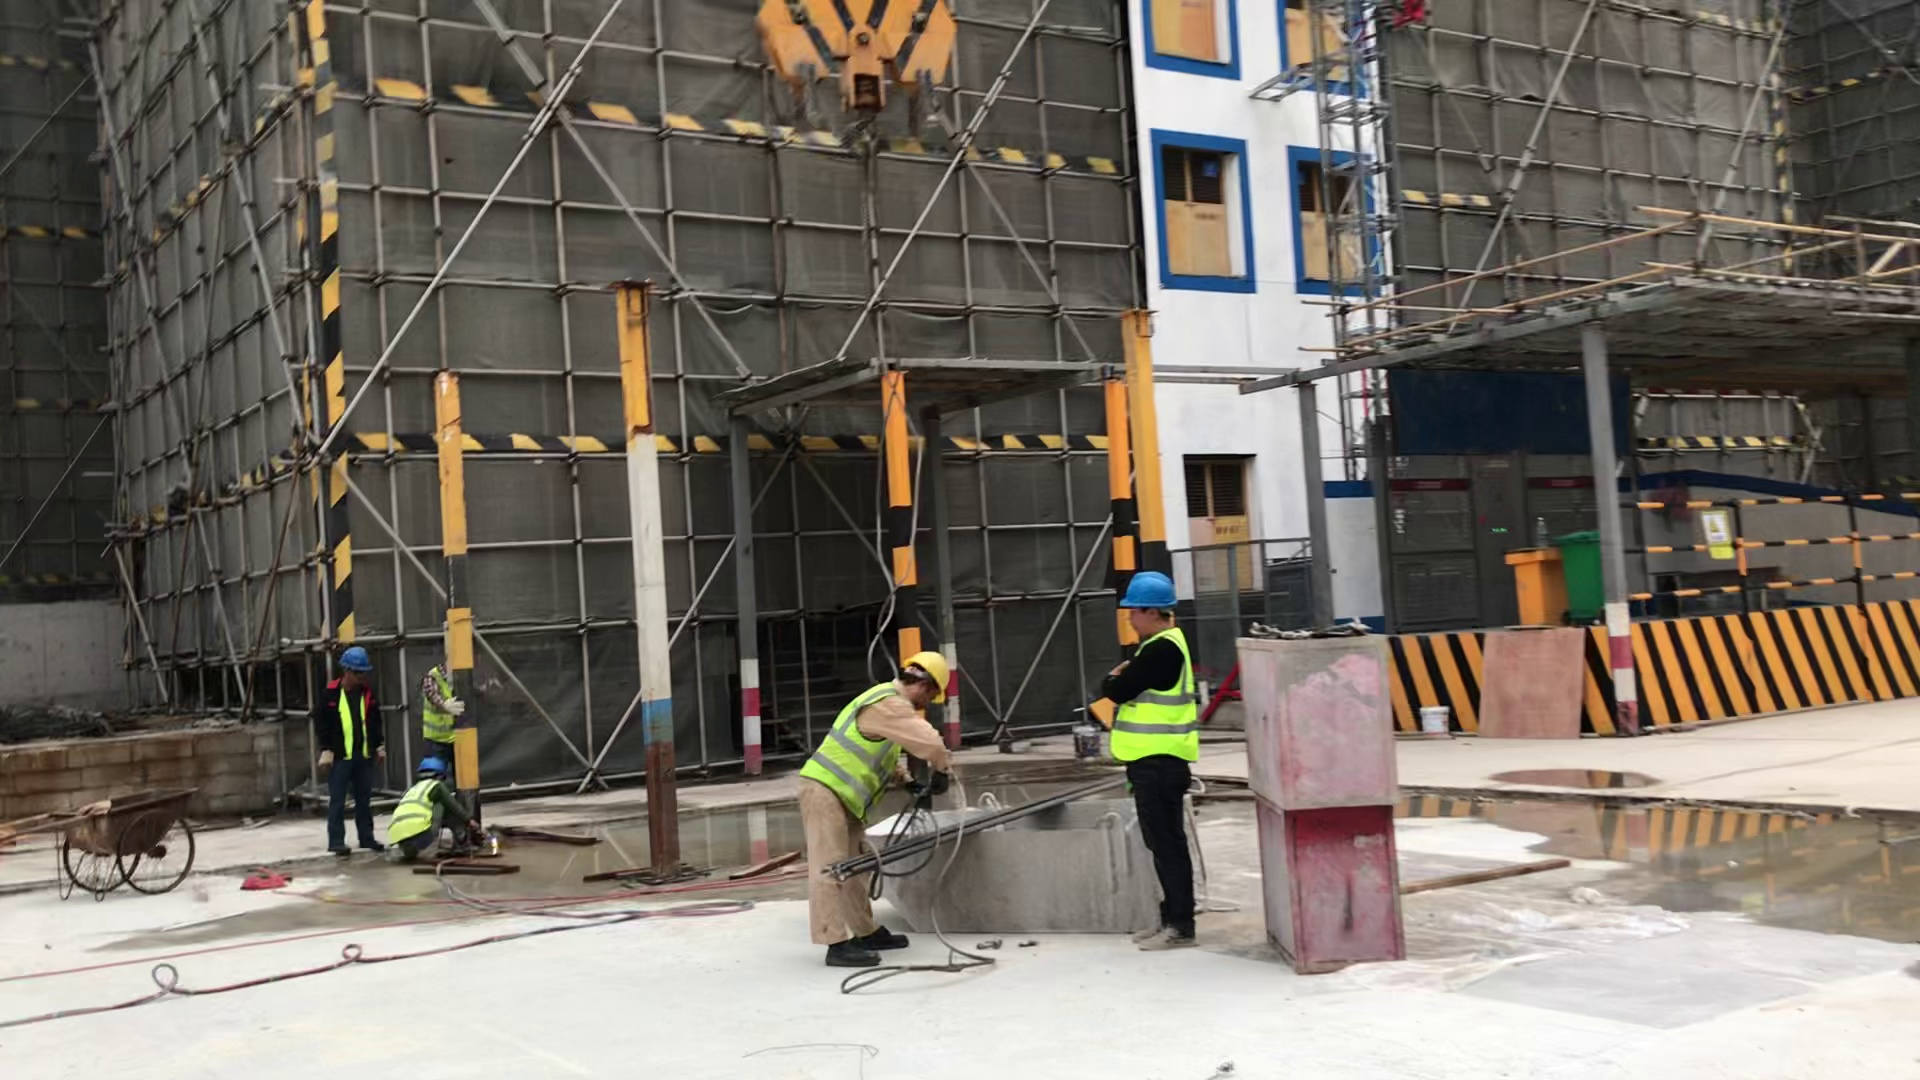board: (1479, 626, 1592, 749)
brick: (4, 720, 339, 823)
handcart: (43, 778, 200, 899)
helmet: (1117, 568, 1178, 612), (906, 652, 951, 704), (340, 640, 370, 675), (412, 754, 447, 777)
hook: (749, 12, 977, 172)
person: (793, 647, 959, 964), (1103, 569, 1223, 957), (322, 643, 382, 857), (383, 757, 482, 874), (414, 644, 472, 764)
vest: (796, 674, 905, 829), (1102, 625, 1203, 772), (390, 777, 446, 843)
